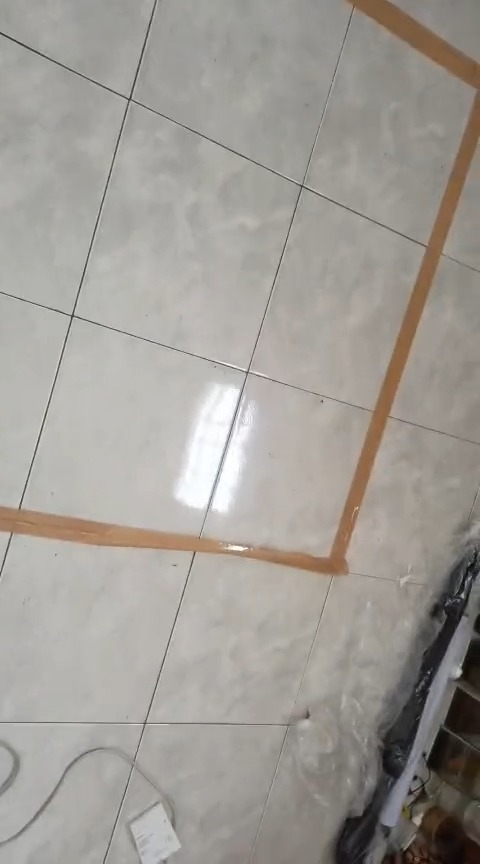floor marking: (2, 0, 479, 574)
